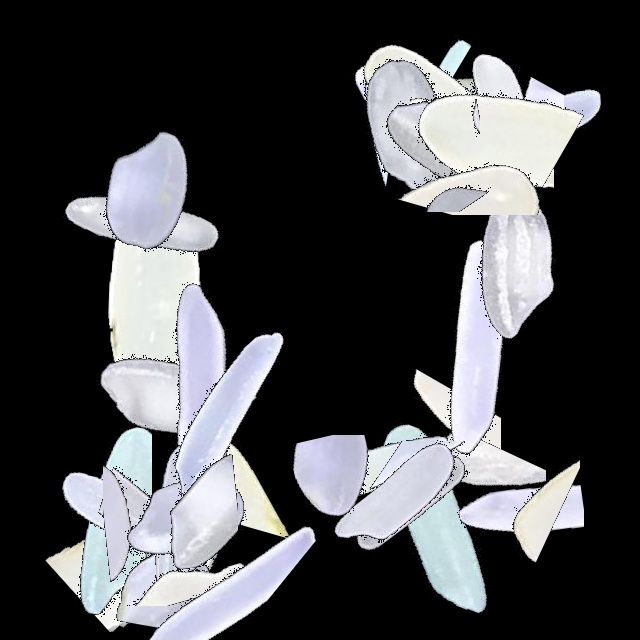Broken: (356, 33, 606, 206), (21, 466, 271, 632), (423, 390, 584, 640), (47, 470, 297, 629), (73, 485, 323, 640), (216, 435, 466, 588), (0, 390, 152, 640), (331, 345, 478, 595), (410, 59, 554, 309), (44, 450, 294, 589), (99, 390, 238, 640), (197, 336, 332, 586), (422, 384, 546, 634), (208, 62, 458, 186), (309, 441, 559, 562), (339, 95, 589, 215), (103, 390, 217, 640), (392, 324, 501, 574), (258, 32, 508, 141), (10, 518, 260, 619), (464, 0, 564, 250), (360, 0, 453, 250), (319, 119, 569, 212), (35, 514, 285, 606), (489, 332, 580, 582), (390, 5, 480, 255), (36, 449, 286, 527)
Full: (30, 170, 280, 420), (334, 0, 584, 250), (41, 266, 291, 516), (64, 390, 314, 640), (319, 0, 569, 250), (312, 390, 562, 640), (75, 267, 325, 517), (0, 390, 250, 640), (281, 375, 531, 625), (344, 11, 594, 261), (323, 0, 573, 250), (385, 12, 635, 262), (16, 96, 266, 346), (58, 390, 308, 640), (349, 219, 599, 469), (23, 65, 273, 315), (375, 0, 625, 250), (59, 390, 309, 640), (387, 138, 637, 388), (273, 372, 523, 622), (285, 0, 535, 250), (102, 288, 352, 538), (328, 18, 578, 268)
